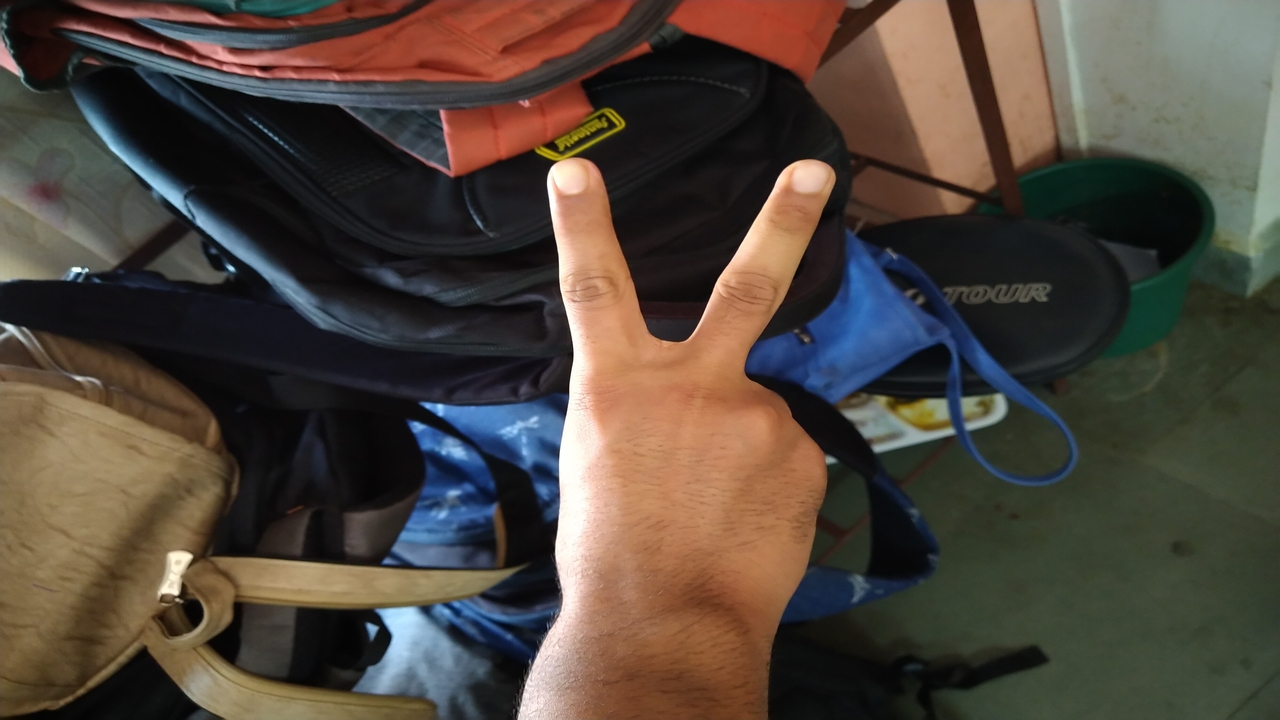fingertip: (772, 150, 840, 218), (542, 148, 610, 214)
